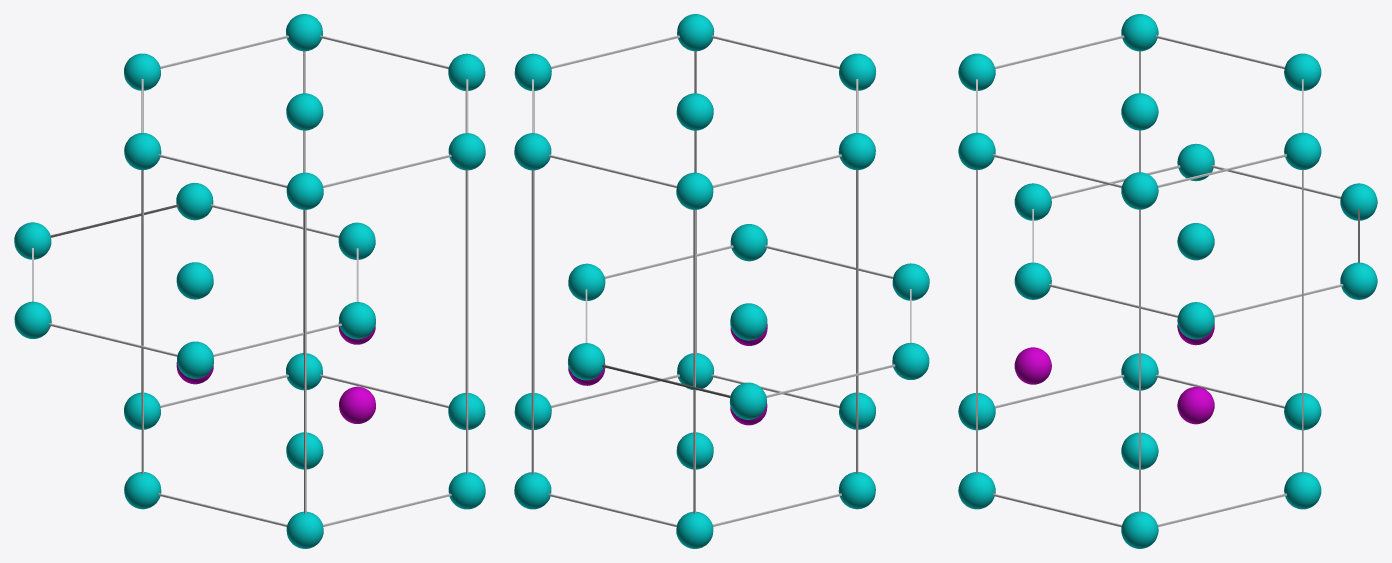
Rendered from yodurocadmio_centrado.glb.
3 views of the same model, side by side, from view 1: azimuth 30°, elevation 25°; view 2: azimuth 150°, elevation 25°; view 3: azimuth 270°, elevation 25° (orthographic).
Parts seen in each view (by area): view 1: polySurface8; view 2: polySurface8; view 3: polySurface8.
Boxes of the visible parts, bbox=[...] form: polySurface8: bbox=[14, 14, 485, 548]; polySurface8: bbox=[514, 14, 929, 548]; polySurface8: bbox=[958, 14, 1377, 548].
Bounding box in the file's own units: 2.7 × 2.2 × 2.24.
